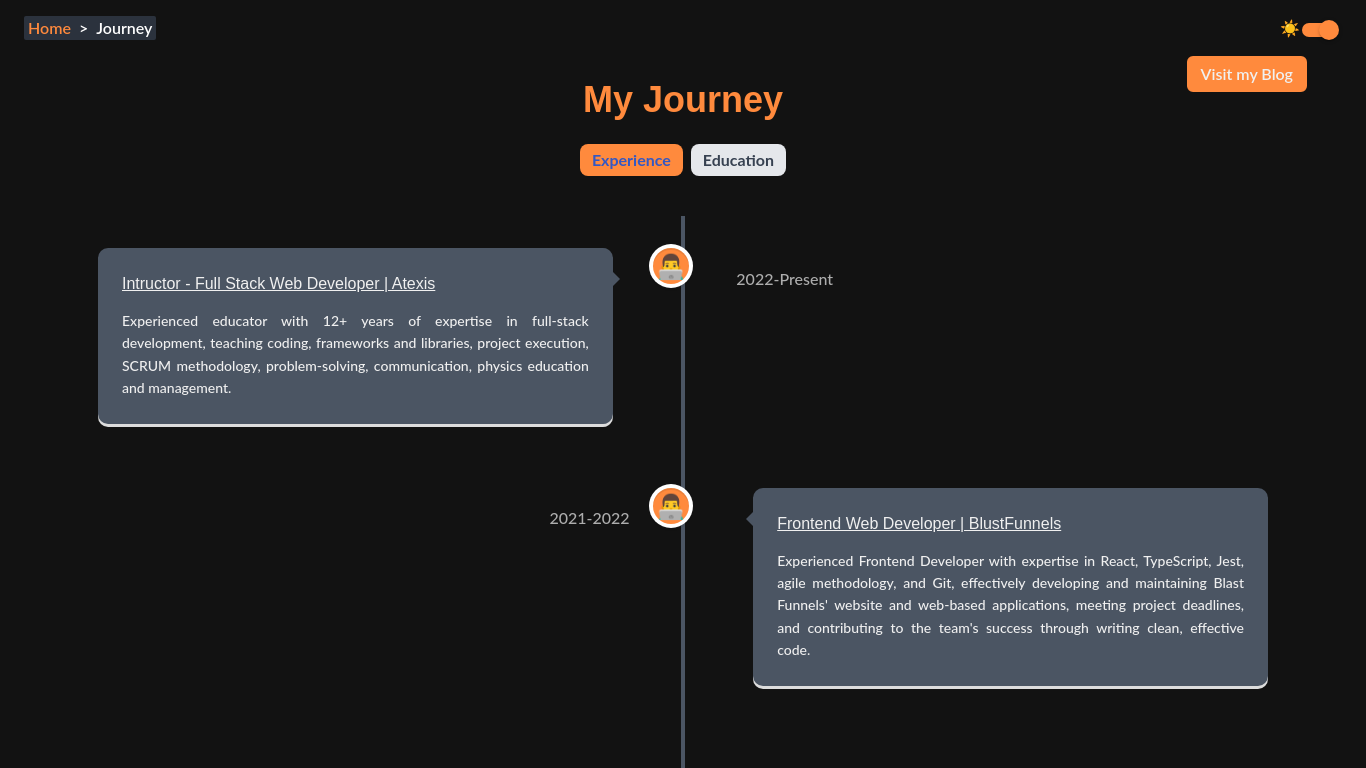
Test: Projects Page › should display the correct icon for each experience
Expected: the picture "👨‍💻" next to "2022-Present" is shown, [656,248,686,284]
Click the button with test id "education-button": (739, 160) [691,144,786,176]
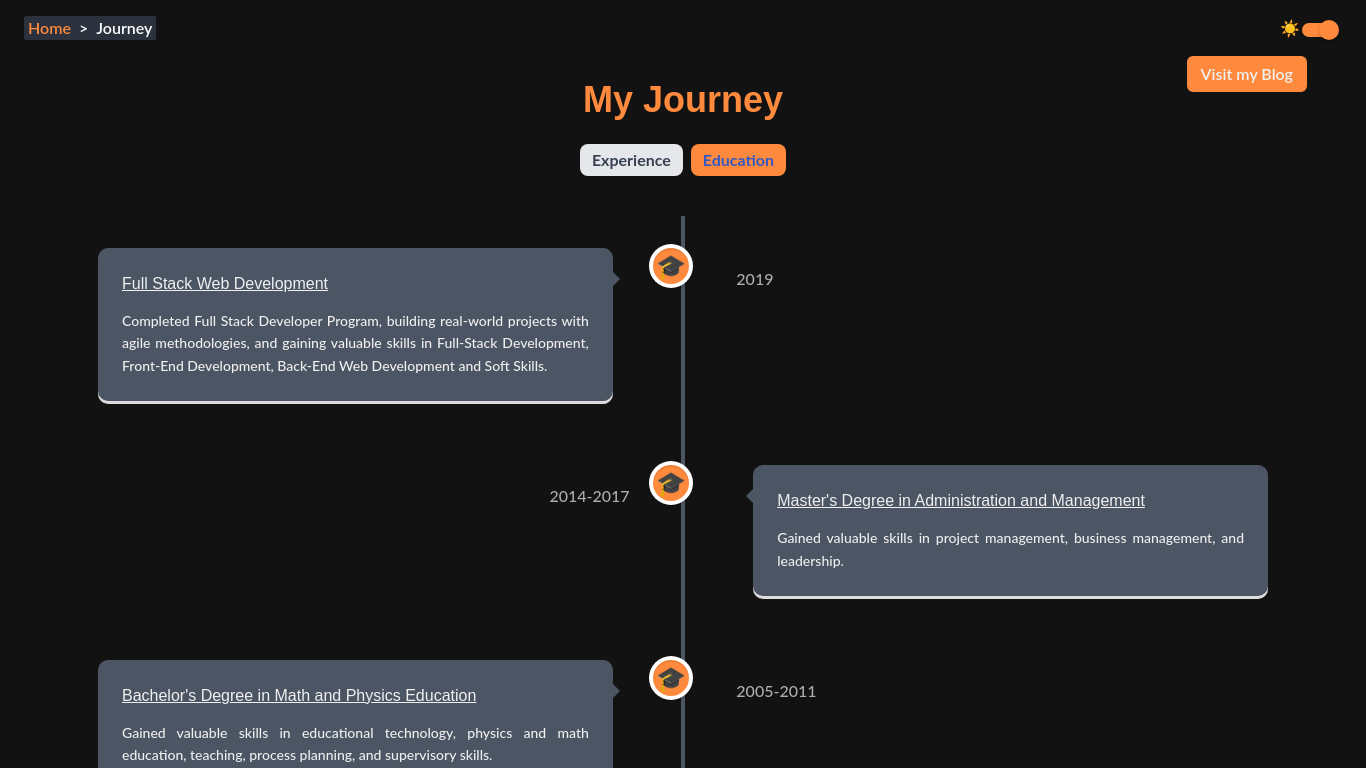
Now the picture "🎓" next to "2019" is shown, box [656,248,686,284]
